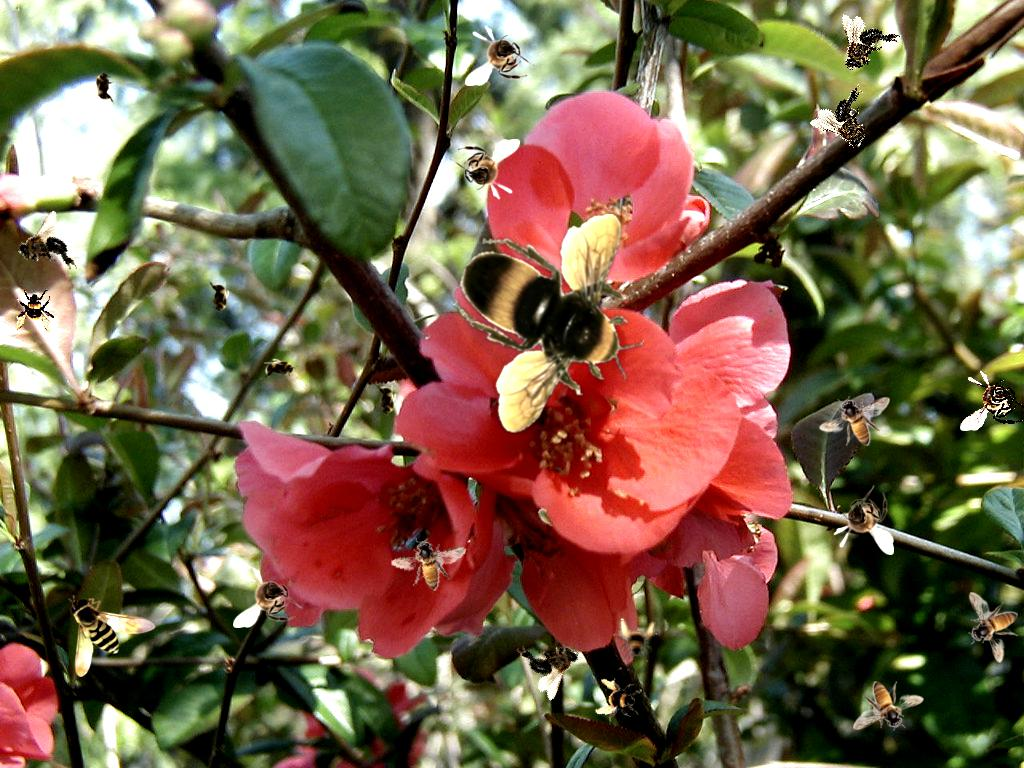Bee: (453, 214, 644, 434), (68, 595, 156, 677), (807, 82, 890, 162), (513, 621, 592, 703), (8, 209, 81, 287), (826, 11, 903, 83), (386, 531, 468, 596), (833, 485, 894, 555), (465, 25, 535, 86), (450, 139, 520, 200), (233, 567, 303, 628), (960, 370, 1024, 431), (968, 592, 1018, 663), (819, 396, 890, 446), (853, 681, 924, 731), (593, 676, 643, 726), (14, 289, 58, 333), (613, 618, 657, 662), (208, 278, 230, 318), (260, 358, 300, 380), (375, 381, 397, 421), (93, 66, 115, 106)
